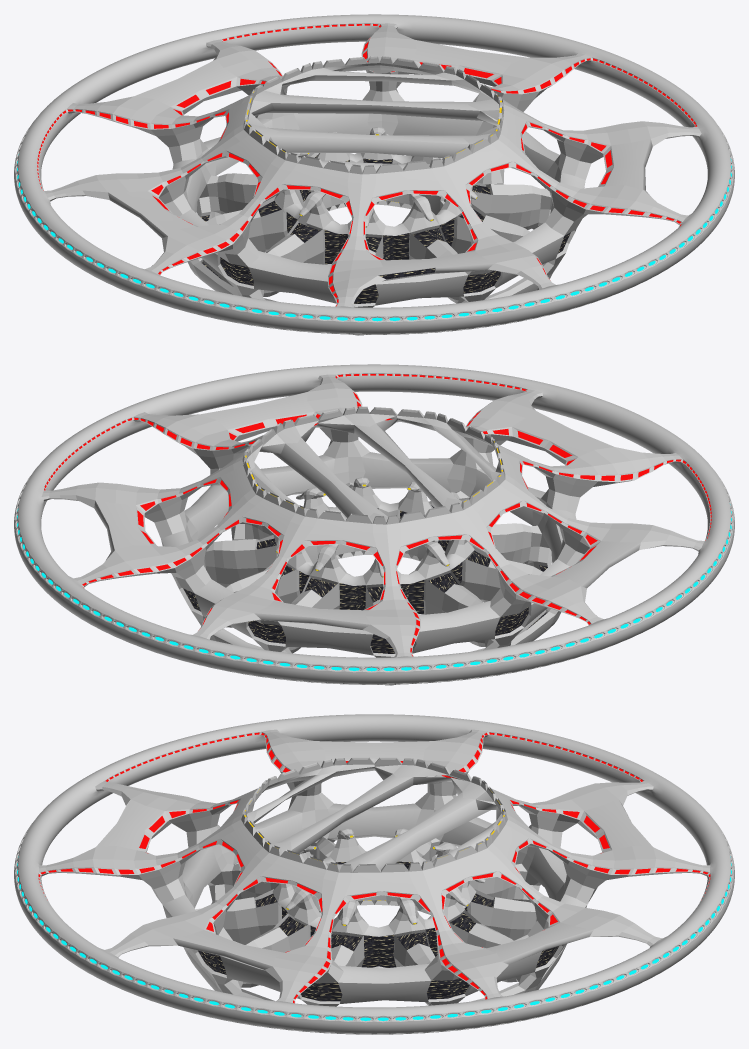
The picture shows the model from 3 angles, top to bottom: view 1: azimuth 30°, elevation 25°; view 2: azimuth 150°, elevation 25°; view 3: azimuth 270°, elevation 25°; orthographic projection.
Parts seen in each view (by area): view 1: MaterialFBXASC032FBXASC0352142150746, ORDNUNGSKRAFTFBXASC032Graviton, MaterialFBXASC032FBXASC0352142147988, LIGHTKRAFTFBXASC032GRAVITONFBXASC032; view 2: MaterialFBXASC032FBXASC0352142150746 (×2), ORDNUNGSKRAFTFBXASC032Graviton, MaterialFBXASC032FBXASC0352142147988, LIGHTKRAFTFBXASC032GRAVITONFBXASC032; view 3: MaterialFBXASC032FBXASC0352142150746, MaterialFBXASC032FBXASC0352142147988, ORDNUNGSKRAFTFBXASC032Graviton, LIGHTKRAFTFBXASC032GRAVITONFBXASC032.
Boxes of the visible parts, x1,y1,x2,y2 form: MaterialFBXASC032FBXASC0352142150746: (14,14,734,335); ORDNUNGSKRAFTFBXASC032Graviton: (37,24,696,306); MaterialFBXASC032FBXASC0352142147988: (201,155,570,303); LIGHTKRAFTFBXASC032GRAVITONFBXASC032: (17,154,731,321); MaterialFBXASC032FBXASC0352142150746 (×2): (14,364,734,685); ORDNUNGSKRAFTFBXASC032Graviton: (44,374,711,656); MaterialFBXASC032FBXASC0352142147988: (183,505,547,653); LIGHTKRAFTFBXASC032GRAVITONFBXASC032: (17,504,731,671); MaterialFBXASC032FBXASC0352142150746: (14,714,734,1034); MaterialFBXASC032FBXASC0352142147988: (198,861,558,1001); ORDNUNGSKRAFTFBXASC032Graviton: (38,732,710,1003); LIGHTKRAFTFBXASC032GRAVITONFBXASC032: (17,856,731,1020).
Size of the model in its own units: 364 by 82.14 by 364.
